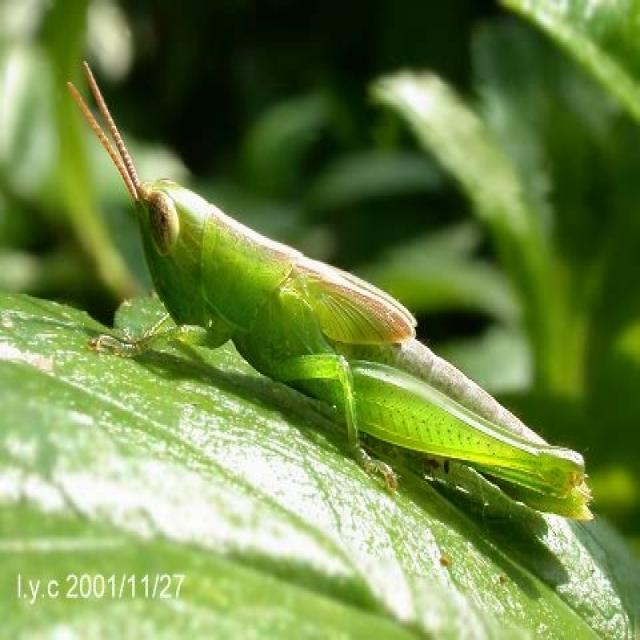ZhaMeng: (87, 131, 600, 524)
